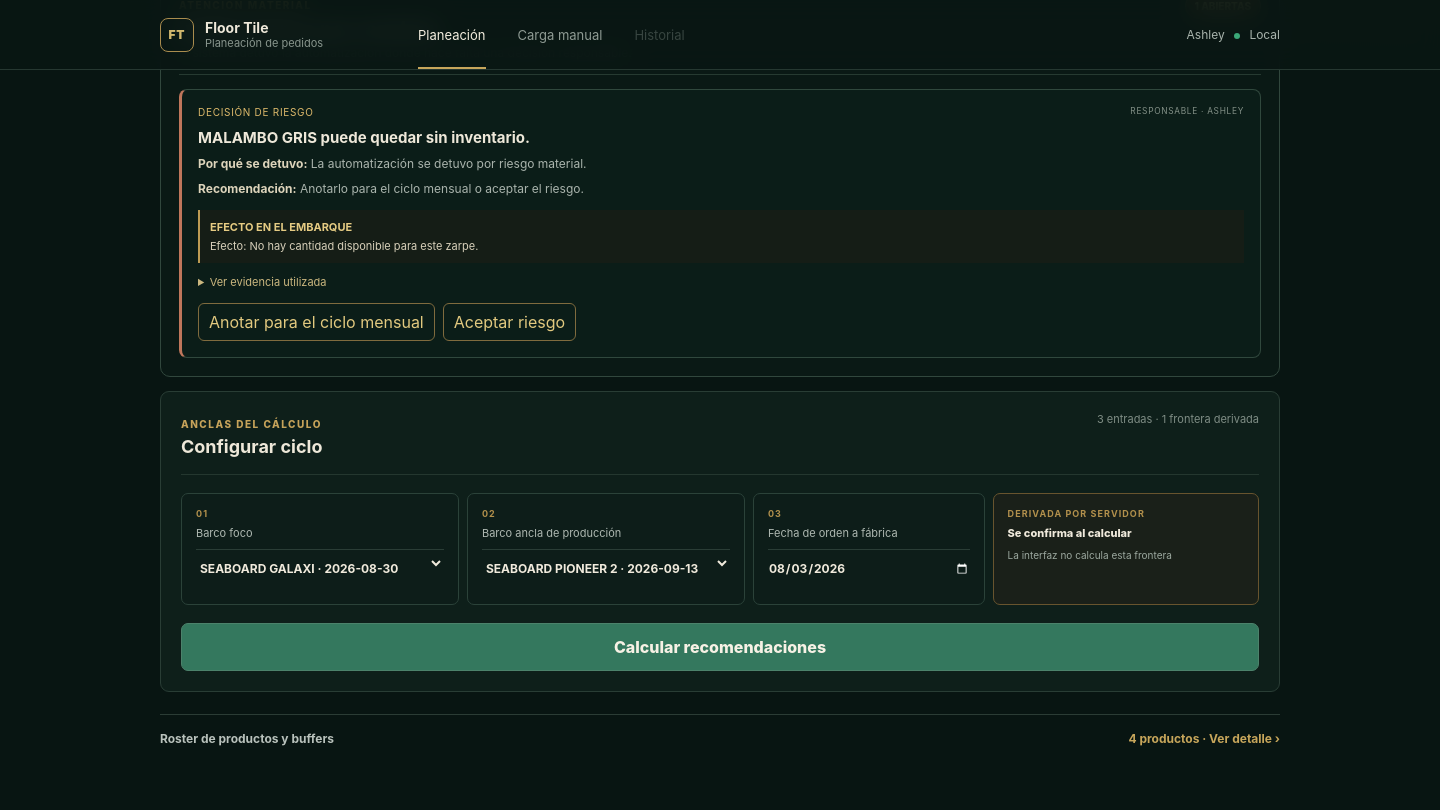
it: three-anchor composer › relays the boundary returned by the server instead of calculating it in the browser
(page scrolled)
Check: the element with test id "derived-boundary" shows "La interfaz no calcula esta frontera", box [1008,549,1172,561]
Step 1. Click the button "Calcular recomendaciones" → (720, 647), box [181,623,1259,671]
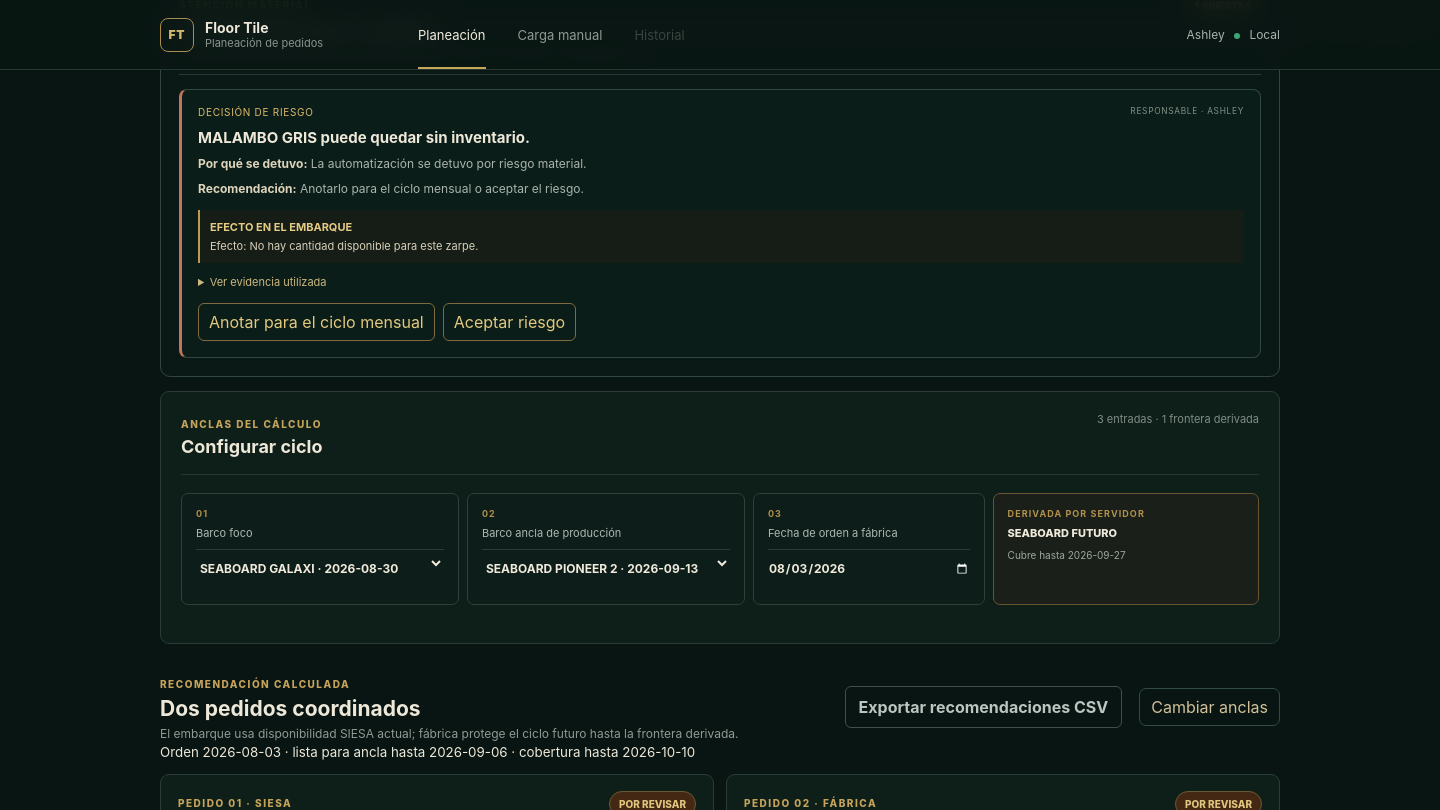
Check: the element with test id "derived-boundary" shows "SEABOARD FUTURO", box [1008,526,1117,540]
